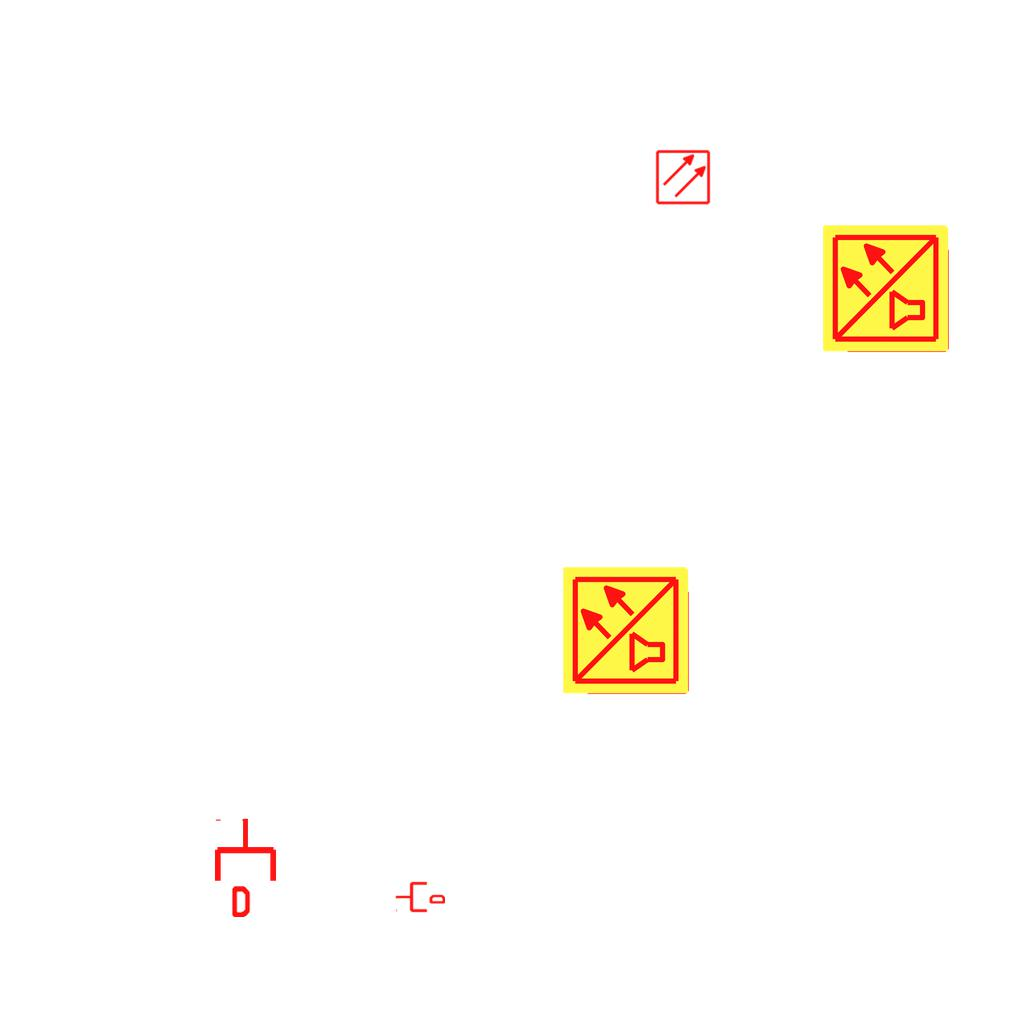Datenanschluss_einfach: (211, 817, 280, 917), (395, 880, 445, 914)
OKW_Multisensormelder_(Kombination_optischer_Rauch-Kahlenmonoxid_Waerme-Melder): (820, 222, 952, 354), (560, 564, 692, 696)
RMO_Rauchmelder_optischer: (655, 149, 711, 205)
